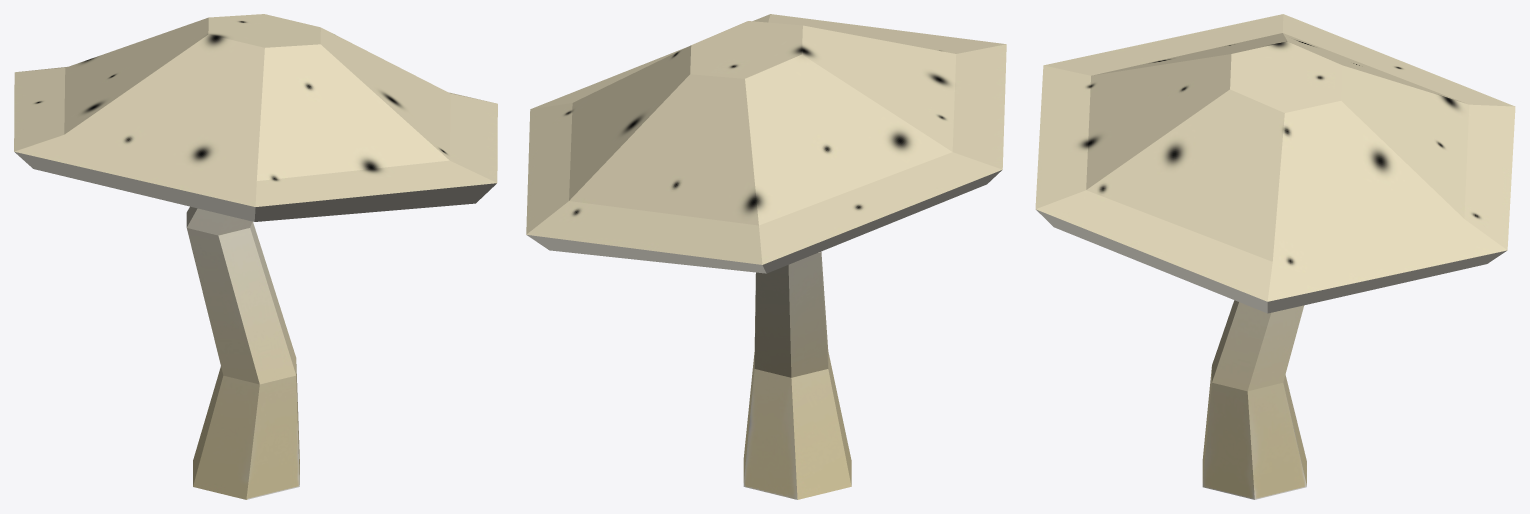
File: ds-Mushroom_001.fbx
The picture shows the model from 3 angles, left to right: view 1: azimuth 30°, elevation 25°; view 2: azimuth 150°, elevation 25°; view 3: azimuth 270°, elevation 25°; orthographic projection. The views are drawn at different scales.
Parts seen in each view (by area): view 1: Cylinder; view 2: Cylinder; view 3: Cylinder.
Boxes of the visible parts, bbox=[...] form: Cylinder: bbox=[14, 14, 497, 499]; Cylinder: bbox=[526, 14, 1006, 499]; Cylinder: bbox=[1035, 14, 1515, 499].
Size of the model in its own units: 653 by 568 by 583.
Materials: 1 (1 with a texture image).
